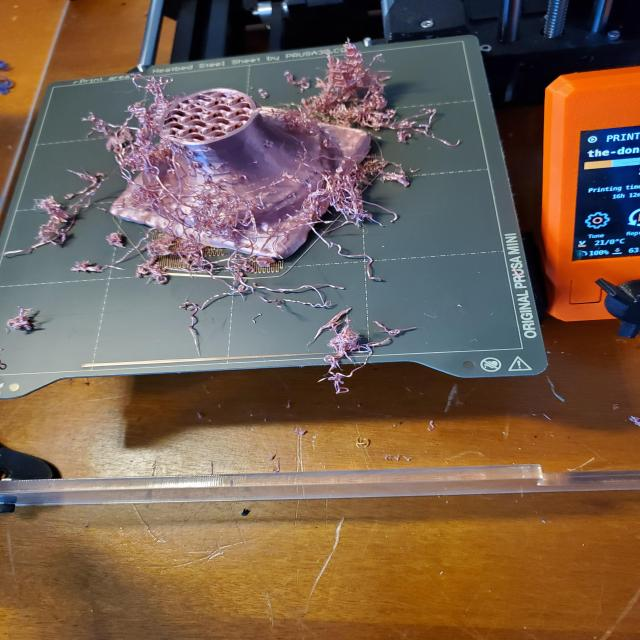Spaghetti: (8, 80, 165, 342), (268, 56, 454, 270), (198, 277, 416, 398)
